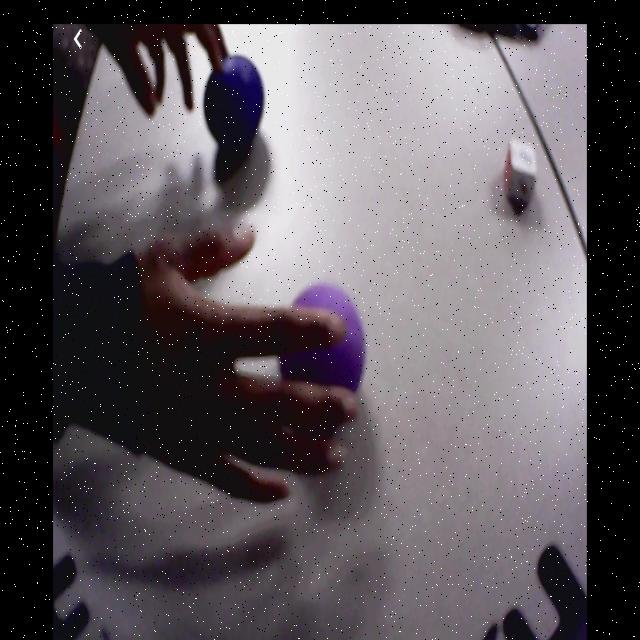ball: (278, 281, 367, 401), (203, 58, 264, 147)
